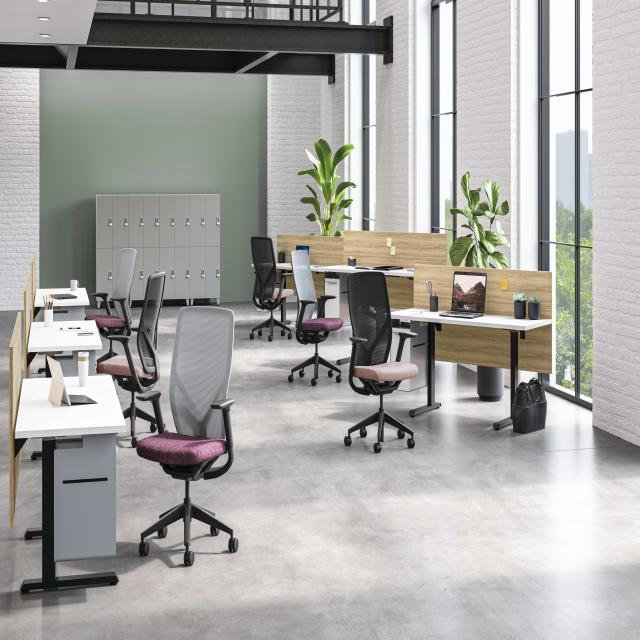chair: (123, 298, 269, 594), (306, 264, 436, 475), (259, 227, 350, 428), (94, 264, 184, 463), (78, 231, 145, 400), (230, 220, 298, 374)
